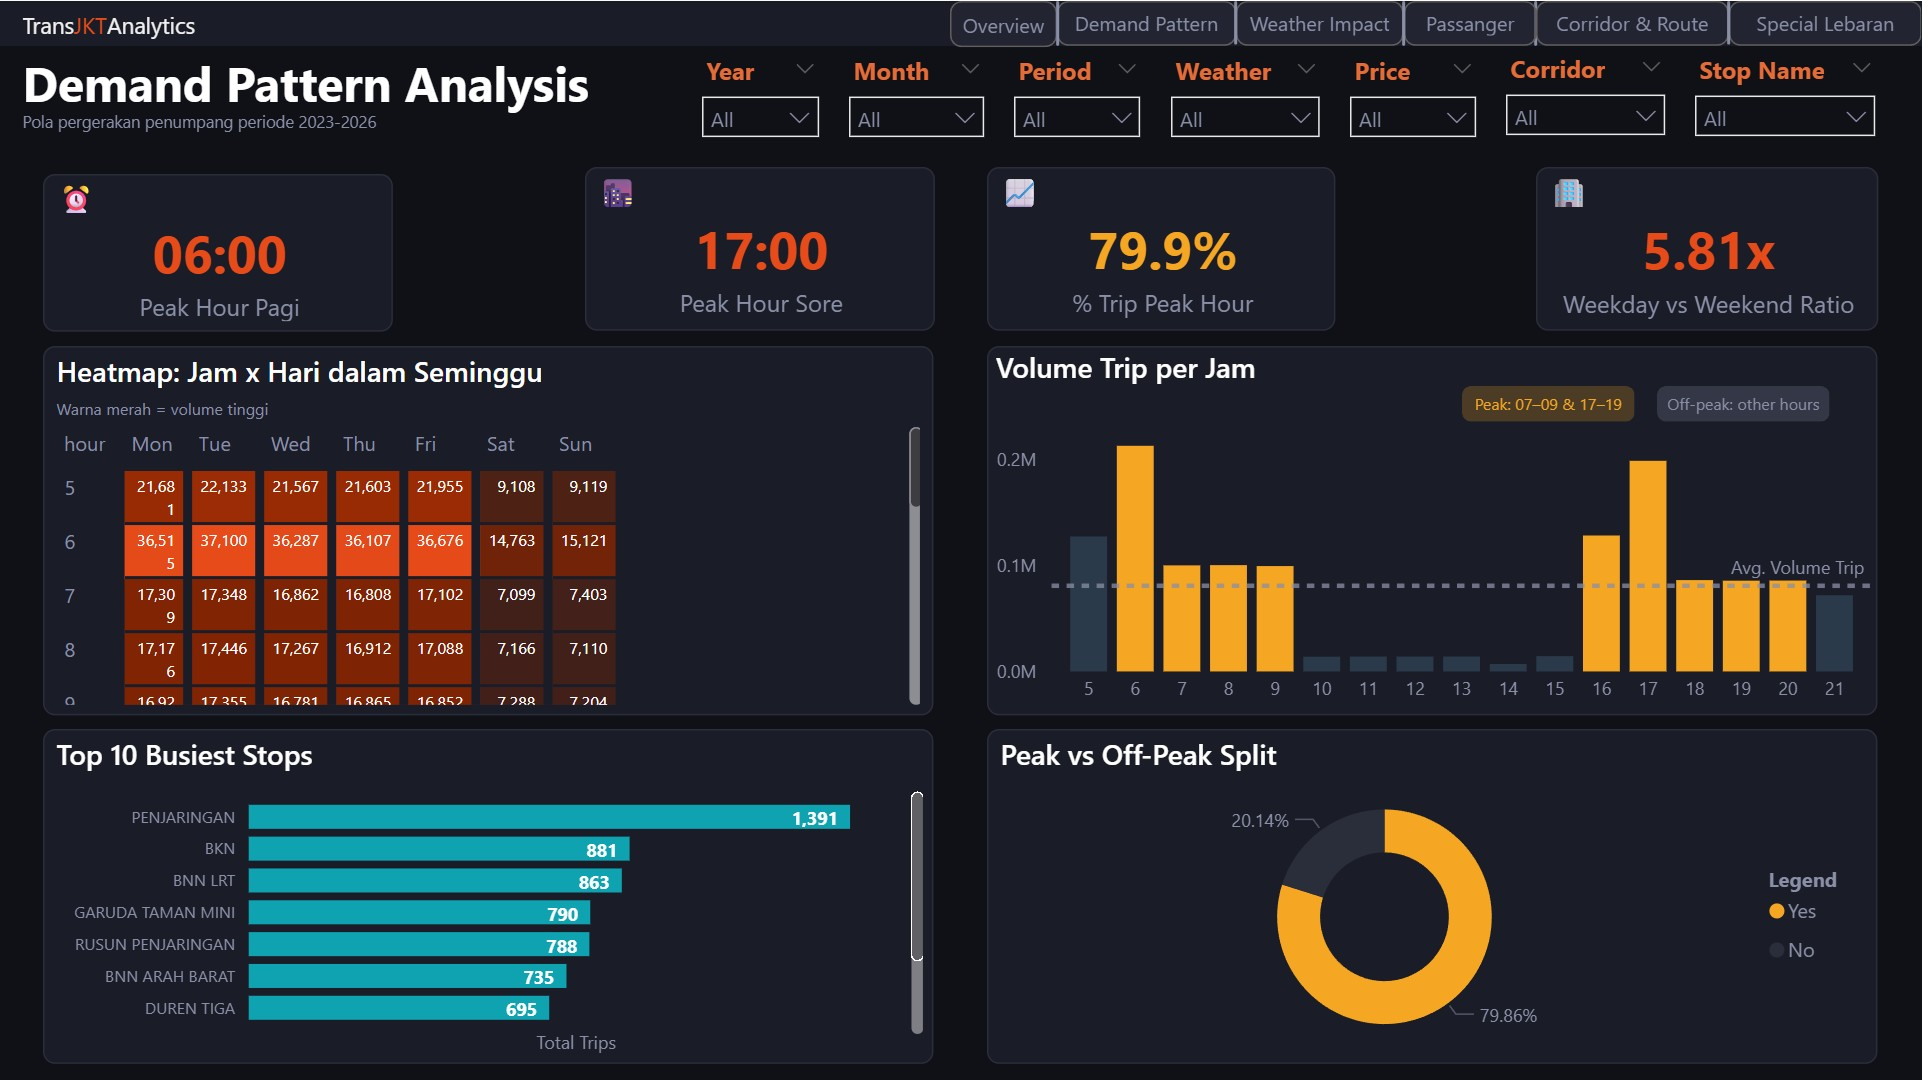

The dashboard page shown, as its layout file describes it:
{"tool":"powerbi","page":{"name":"DEMAND PATTERN","canvas":[1280,720],"ordinal":1},"visuals":[{"type":"shape","box":[0,0,1280.3,30.1],"z":0},{"type":"actionButton","box":[632.8,0,71.3,30.7],"z":0,"group":"g1"},{"type":"shape","box":[1002.5,0,40.9,29.8],"z":0,"group":"g3"},{"type":"htmlContent443BE3AD55E043BF878BED274D3A6855","fields":{"content":["FACT_TRANSJAKARTA.Navbar Brand"]},"box":[9.8,0,135.8,35.6],"z":1000},{"type":"group","id":"g1","title":"Group 2","box":[632.8,0,647.2,30.7],"z":1000,"group":"g3"},{"type":"actionButton","box":[704.2,0,119.3,29.8],"z":1000,"group":"g1"},{"type":"actionButton","box":[823.5,0,111.5,29.8],"z":2000,"group":"g1"},{"type":"textbox","box":[9.8,27,398.7,57.1],"z":2000},{"type":"actionButton","box":[935,0,88.2,29.8],"z":3000,"group":"g1"},{"type":"textbox","box":[9.8,65.1,350.2,28.9],"z":3000},{"type":"actionButton","box":[1023.2,0,128.4,29.8],"z":4000,"group":"g1"},{"type":"card","title":"⏰","fields":{"Values":["FACT_TRANSJAKARTA.Peak Hour Pagi"]},"box":[28.9,114.9,233.4,105.1],"z":4000},{"type":"actionButton","box":[1151.6,0,128.4,29.8],"z":5000,"group":"g1"},{"type":"card","title":"🌆","fields":{"Values":["FACT_TRANSJAKARTA.Peak Hour Sore"]},"box":[389.5,110.6,232.8,108.7],"z":5000},{"type":"shape","box":[684.1,0,40.9,29.8],"z":6000,"group":"g1"},{"type":"card","title":"📈","fields":{"Values":["FACT_TRANSJAKARTA.% Trip Peak Hour"]},"box":[657.3,110.6,232.2,108.7],"z":6000},{"type":"shape","box":[802.7,0,40.9,29.2],"z":7000,"group":"g1"},{"type":"card","title":"🏢","fields":{"Values":["FACT_TRANSJAKARTA.Weekday vs Weekend Ratio"]},"box":[1022.9,110.6,227.9,109.4],"z":7000},{"type":"shape","box":[914.3,0,40.9,29.8],"z":8000,"group":"g1"},{"type":"pivotTable","title":"Heatmap: Jam x Hari dalam Seminggu","fields":{"Rows":["FACT_TRANSJAKARTA.tapInTimeHour"],"Columns":["DIM_CALENDAR.DayNameShort"],"Values":["FACT_TRANSJAKARTA.Total Trips"]},"box":[28.6,229.8,593.4,245.7],"z":8000},{"type":"shape","box":[1130.8,0,40.9,29.2],"z":9000,"group":"g1"},{"type":"clusteredColumnChart","title":"Volume Trip per Jam","fields":{"Y":["FACT_TRANSJAKARTA.Total Trips"],"Category":["FACT_TRANSJAKARTA.tapInTimeHourTxt"]},"box":[657.3,229.8,593.4,245.7],"z":9000},{"type":"shape","box":[973.8,256.2,115,23.8],"z":10000},{"type":"shape","box":[1103.8,256.2,115,23.8],"z":11000},{"type":"clusteredBarChart","title":"Top 10 Busiest Stops","fields":{"Y":["FACT_TRANSJAKARTA.Total Trips"],"Category":["FACT_TRANSJAKARTA.tapInStopsName"]},"box":[28.6,484.8,593.4,223.1],"z":12000},{"type":"donutChart","title":"Peak vs Off-Peak Split","fields":{"Category":["FACT_TRANSJAKARTA.tapInTimeIsPeakHour"],"Y":["FACT_TRANSJAKARTA.Total Trips"]},"box":[657.3,484.8,593.4,223.1],"z":13000},{"type":"group","id":"g2","title":"Group 1","box":[457.7,29.4,801.1,71.9],"z":14000},{"type":"group","id":"g3","title":"Group 3","box":[632.8,0,647.2,30.7],"z":15000},{"type":"slicer","fields":{"Values":["DIM_CALENDAR.Year"]},"box":[457.7,30.7,97.7,70.6],"z":15000,"group":"g2"},{"type":"slicer","fields":{"Values":["DIM_CALENDAR.Weekday_Weekend"]},"box":[665.3,30.7,104.4,70.6],"z":16000,"group":"g2"},{"type":"slicer","fields":{"Values":["DIM_ROUTES_SLICER.Concated Route"]},"box":[993,29.4,125.9,71.3],"z":17000,"group":"g2"},{"type":"slicer","fields":{"Values":["DIM_CALENDAR.MonthName"]},"box":[555.4,30.7,110,70.6],"z":18000,"group":"g2"},{"type":"slicer","fields":{"Values":["DIM_FARES.Price"]},"box":[889,30.7,103.8,70.6],"z":19000,"group":"g2"},{"type":"slicer","fields":{"Values":["DIM_STOPS.StopName"]},"box":[1118.7,30.1,140.1,70.6],"z":20000,"group":"g2"},{"type":"slicer","fields":{"Values":["DIM_WEATHER.isRain"]},"box":[769.8,30.7,119.2,70.6],"z":21000,"group":"g2"}]}

Visuals, with their boxes in screenshot pixels (x1, y1, x2, y2), scaled from the page's 1280x720 canvas onto the 1922x1080 screenshot:
shape: pyautogui.locateOnScreen(0, 0, 1921, 45)
actionButton: pyautogui.locateOnScreen(950, 0, 1057, 46)
shape: pyautogui.locateOnScreen(1505, 0, 1567, 45)
htmlContent443BE3AD55E043BF878BED274D3A6855 - FACT_TRANSJAKARTA.Navbar Brand: pyautogui.locateOnScreen(15, 0, 219, 53)
"Group 2" group: pyautogui.locateOnScreen(950, 0, 1921, 46)
actionButton: pyautogui.locateOnScreen(1057, 0, 1237, 45)
actionButton: pyautogui.locateOnScreen(1237, 0, 1404, 45)
textbox: pyautogui.locateOnScreen(15, 40, 613, 126)
actionButton: pyautogui.locateOnScreen(1404, 0, 1536, 45)
textbox: pyautogui.locateOnScreen(15, 98, 541, 141)
actionButton: pyautogui.locateOnScreen(1536, 0, 1729, 45)
"⏰" card: pyautogui.locateOnScreen(43, 172, 394, 330)
actionButton: pyautogui.locateOnScreen(1729, 0, 1921, 45)
"🌆" card: pyautogui.locateOnScreen(585, 166, 934, 329)
shape: pyautogui.locateOnScreen(1027, 0, 1089, 45)
"📈" card: pyautogui.locateOnScreen(987, 166, 1336, 329)
shape: pyautogui.locateOnScreen(1205, 0, 1267, 44)
"🏢" card: pyautogui.locateOnScreen(1536, 166, 1878, 330)
shape: pyautogui.locateOnScreen(1373, 0, 1434, 45)
"Heatmap: Jam x Hari dalam Seminggu" pivotTable: pyautogui.locateOnScreen(43, 345, 934, 713)
shape: pyautogui.locateOnScreen(1698, 0, 1759, 44)
"Volume Trip per Jam" clusteredColumnChart: pyautogui.locateOnScreen(987, 345, 1878, 713)
shape: pyautogui.locateOnScreen(1462, 384, 1635, 420)
shape: pyautogui.locateOnScreen(1657, 384, 1830, 420)
"Top 10 Busiest Stops" clusteredBarChart: pyautogui.locateOnScreen(43, 727, 934, 1062)
"Peak vs Off-Peak Split" donutChart: pyautogui.locateOnScreen(987, 727, 1878, 1062)
"Group 1" group: pyautogui.locateOnScreen(687, 44, 1890, 152)
"Group 3" group: pyautogui.locateOnScreen(950, 0, 1921, 46)
slicer - DIM_CALENDAR.Year: pyautogui.locateOnScreen(687, 46, 834, 152)
slicer - DIM_CALENDAR.Weekday_Weekend: pyautogui.locateOnScreen(999, 46, 1156, 152)
slicer - DIM_ROUTES_SLICER.Concated Route: pyautogui.locateOnScreen(1491, 44, 1680, 151)
slicer - DIM_CALENDAR.MonthName: pyautogui.locateOnScreen(834, 46, 999, 152)
slicer - DIM_FARES.Price: pyautogui.locateOnScreen(1335, 46, 1491, 152)
slicer - DIM_STOPS.StopName: pyautogui.locateOnScreen(1680, 45, 1890, 151)
slicer - DIM_WEATHER.isRain: pyautogui.locateOnScreen(1156, 46, 1335, 152)
